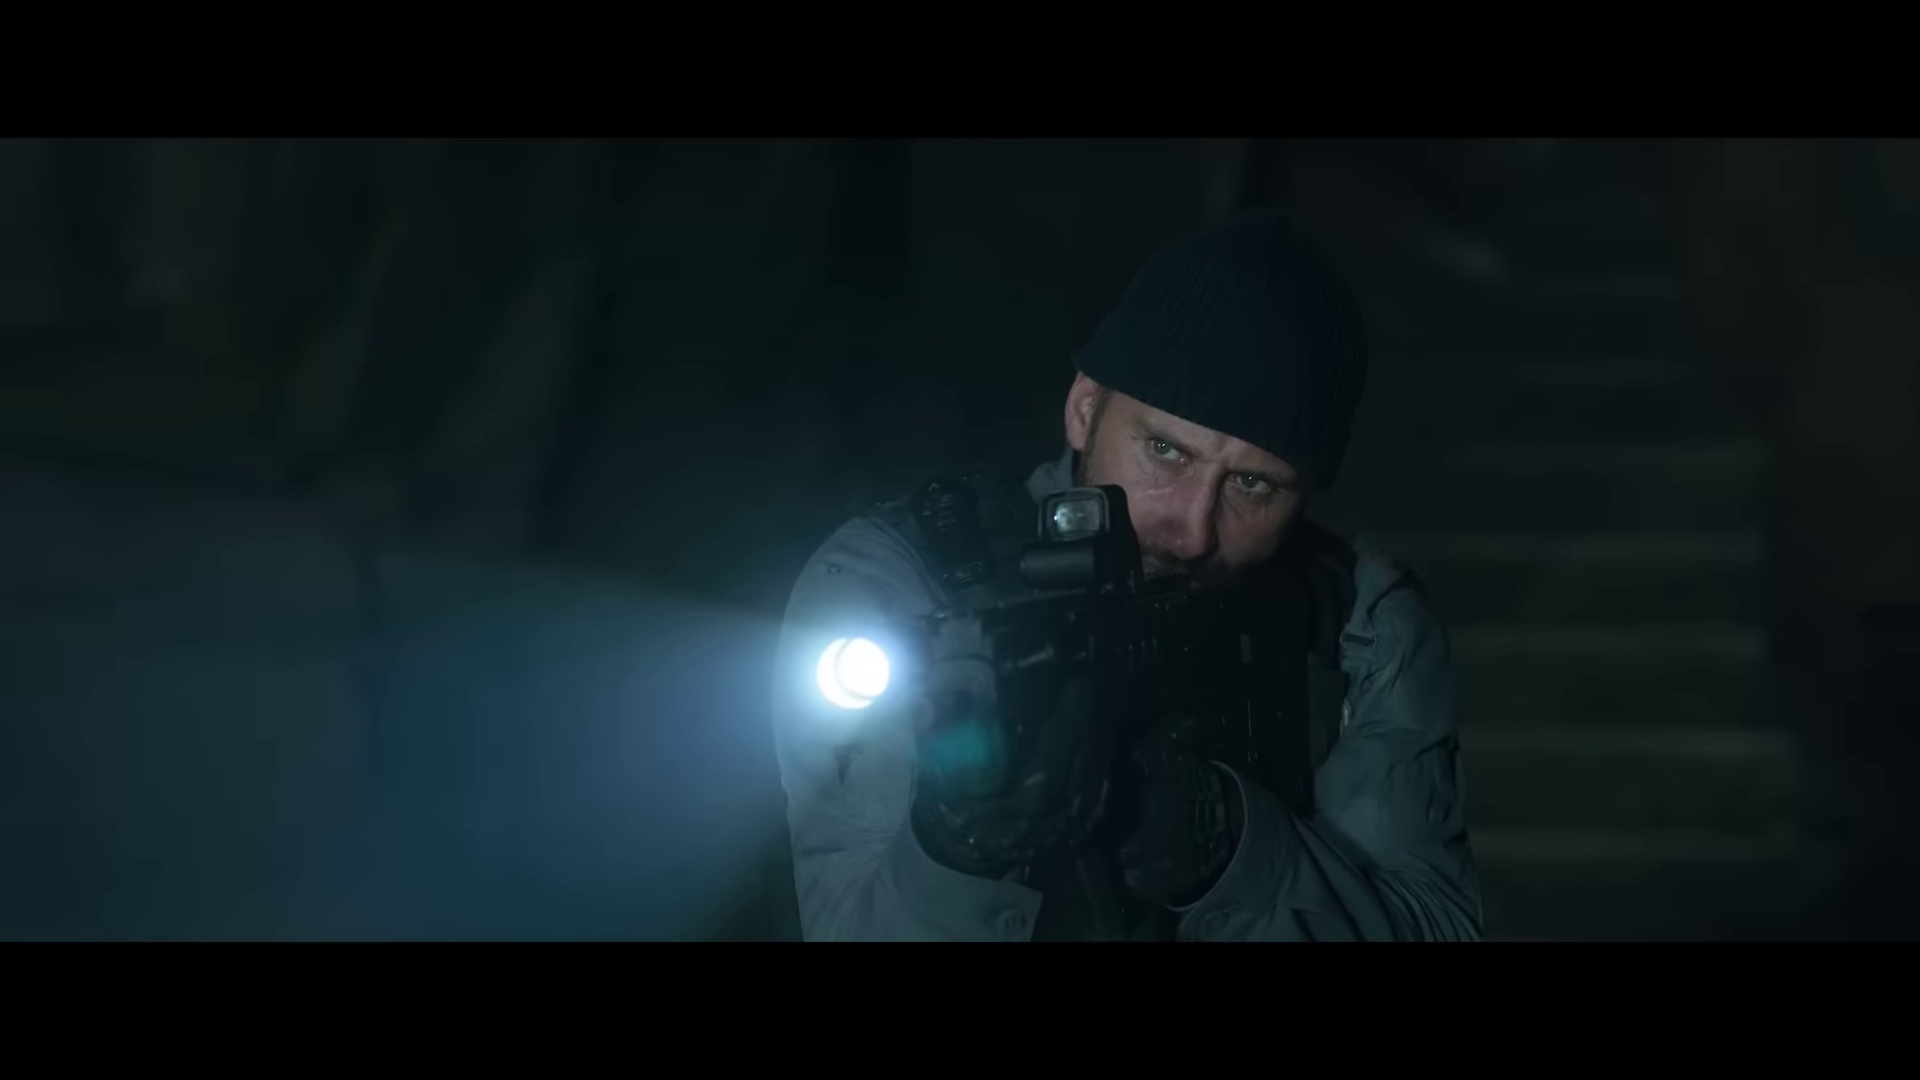gun: (808, 443, 1278, 876)
p_w_gun: (766, 222, 1495, 942)
